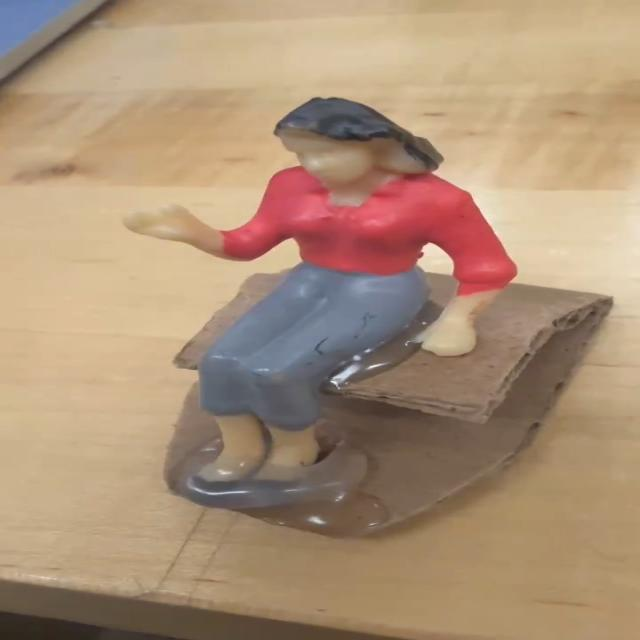Authorized: (89, 77, 531, 511)
